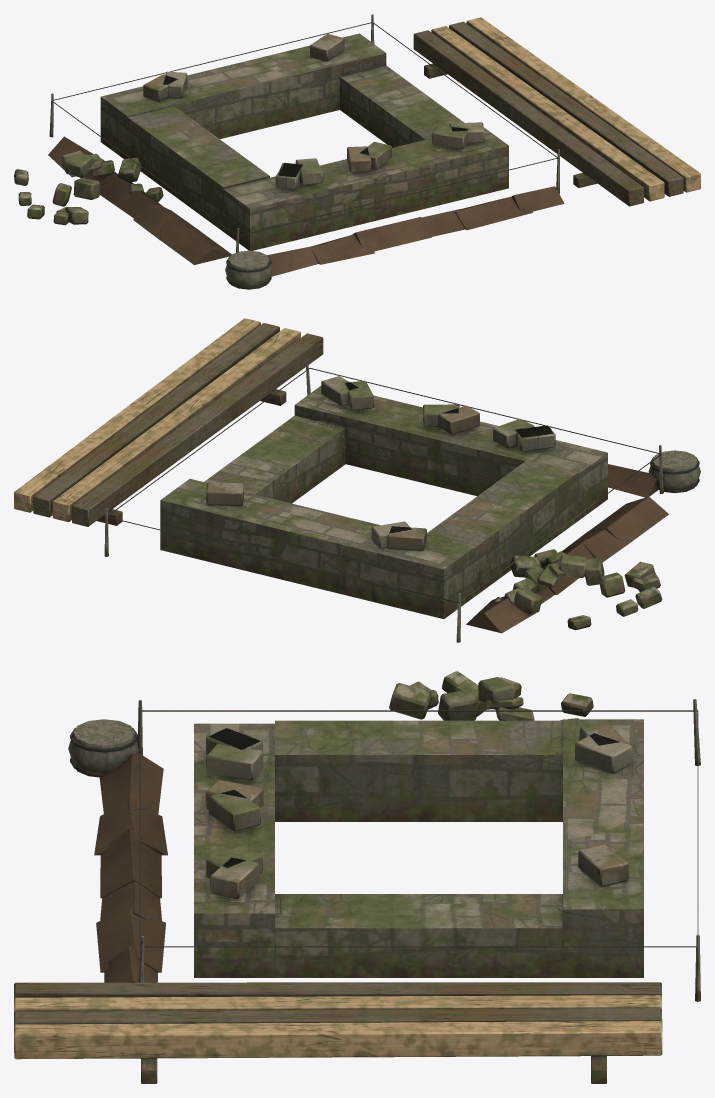
File: watchtower_build1.glb
3 views of the same model, one above another, from view 1: azimuth 30°, elevation 25°; view 2: azimuth 150°, elevation 25°; view 3: azimuth 270°, elevation 25° (orthographic). The views are drawn at different scales.
Parts seen in each view (by area): view 1: watchtower_build1_LOD0; view 2: watchtower_build1_LOD0; view 3: watchtower_build1_LOD0.
Boxes of the visible parts, x1,y1,x2,y2 form: watchtower_build1_LOD0: (14, 14, 700, 289); watchtower_build1_LOD0: (14, 318, 700, 642); watchtower_build1_LOD0: (14, 671, 700, 1083).
Size of what is drawn, in the model's own units: 10.42 by 1.11 by 7.64.
1 material, 1 textured.
